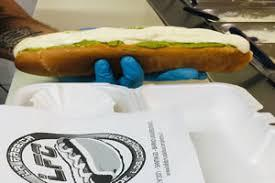Completos: (12, 23, 252, 74)
